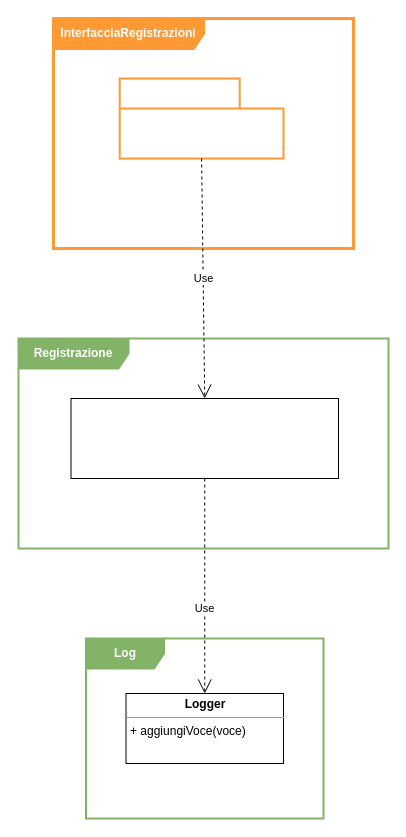
Image size: 406x837. Some labels were removed from this diagram. Each missing label, with the box of its shape:
RegistrazioneController + registra(Nome, Cognome, Email, username, password): (70, 398, 338, 478)
ViewRegistrazione: (118, 77, 284, 159)
